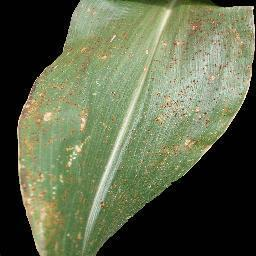Corn_Common_Rust: (196, 0, 256, 159), (15, 166, 76, 256), (146, 74, 195, 174), (46, 93, 100, 165), (45, 42, 110, 92), (12, 71, 45, 166), (160, 0, 195, 74), (67, 1, 125, 40), (107, 174, 180, 201), (100, 200, 153, 216), (110, 40, 136, 59), (101, 112, 120, 136), (111, 90, 121, 99)
